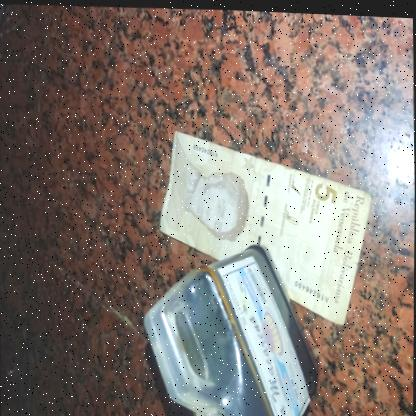five-front-vef: (157, 124, 374, 325)
